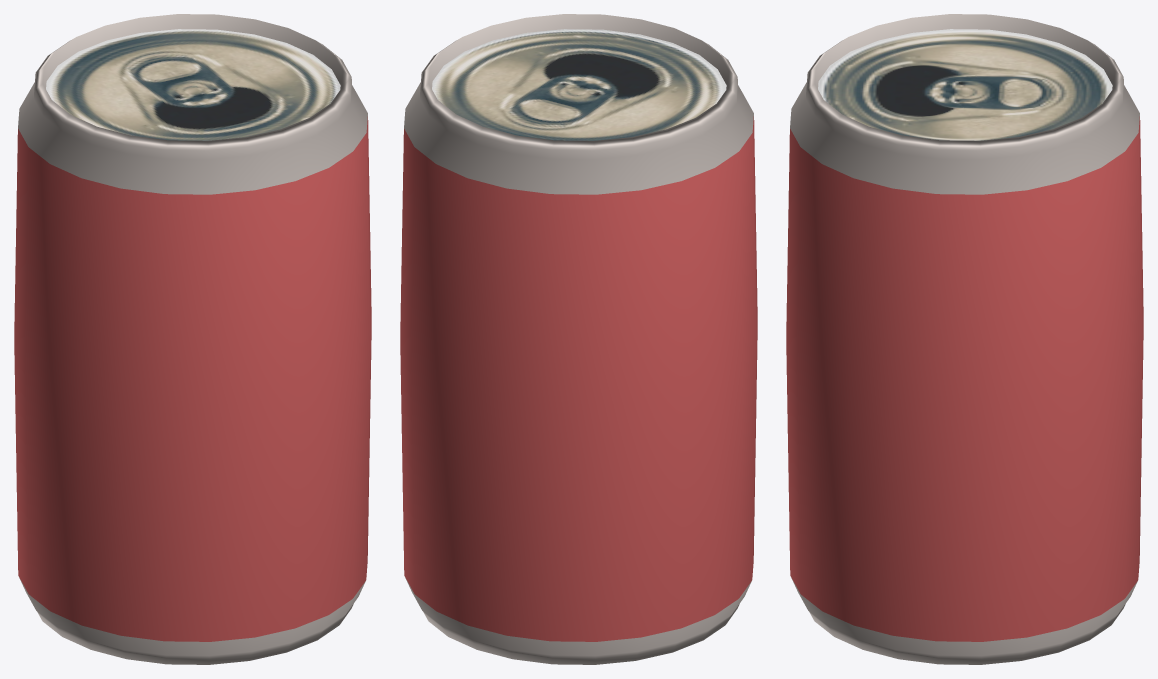
The model's file is soda.fbx.
The picture shows the model from 3 angles, left to right: view 1: azimuth 30°, elevation 25°; view 2: azimuth 150°, elevation 25°; view 3: azimuth 270°, elevation 25°; orthographic projection.
Parts seen in each view (by area): view 1: Torus; view 2: Torus; view 3: Torus.
Boxes of the visible parts, x1,y1,x2,y2 form: Torus: (14, 14, 371, 664); Torus: (400, 14, 757, 664); Torus: (786, 14, 1143, 664).
Size of the model in its own units: 48.02 by 77.02 by 48.02.
Materials: 3 (1 with a texture image).
